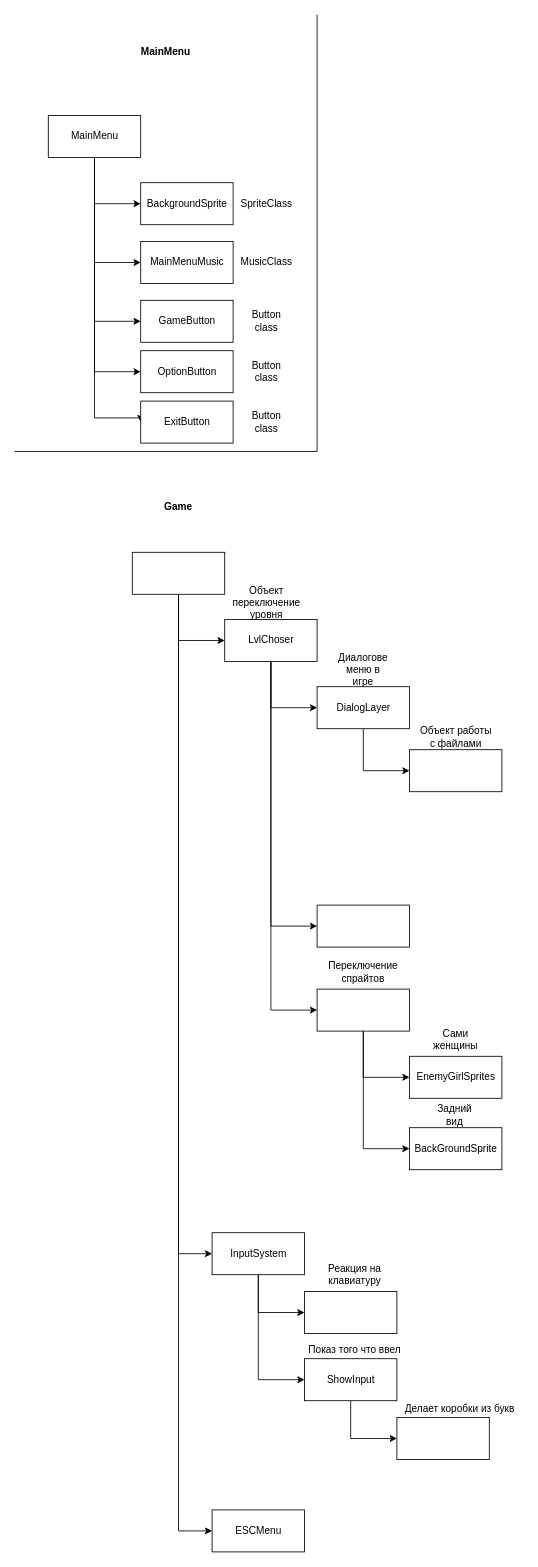
The diagram is 538 pixels wide and 1567 high, and some of its shapes have lost their labels. The shapes that lost their labels are listed below. From the top down, each one's centre as x and y in pixels, then its label:
At point 178,572: "GameMenu".
At point 455,770: "DialogsFiles".
At point 363,925: "LvlMusic".
At point 363,1009: "AnimationSprite".
At point 350,1312: "KeyBoardInput".
At point 442,1438: "BoxOfWords".
